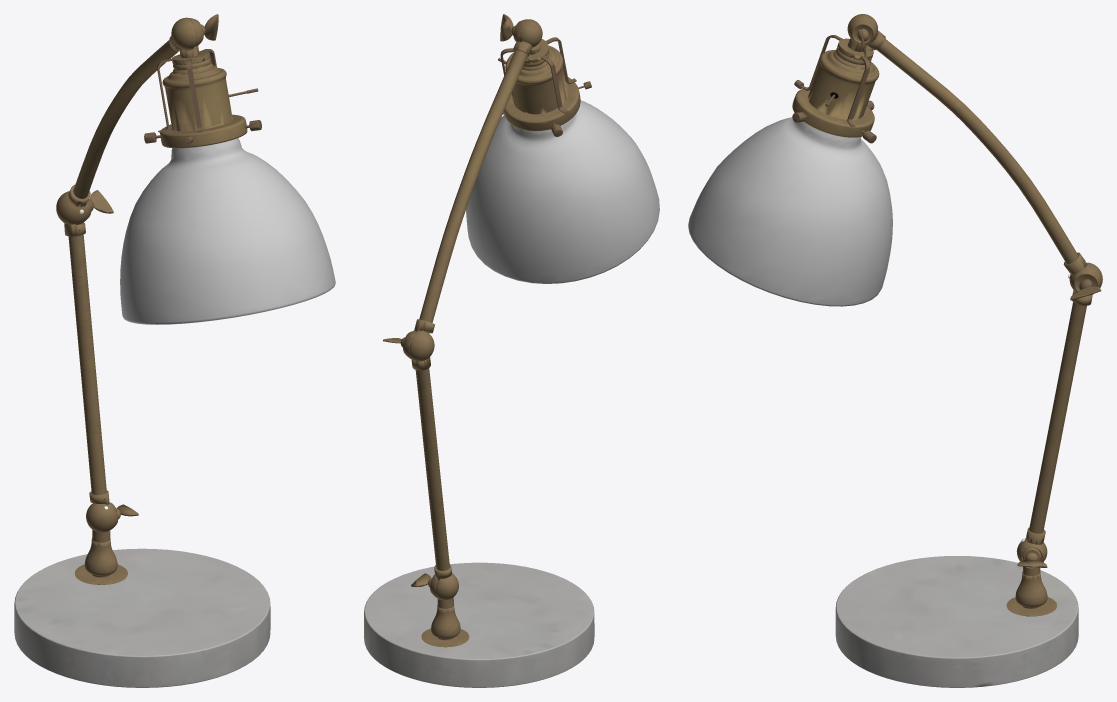
3 renders of one model, left to right at view 1: azimuth 30°, elevation 25°; view 2: azimuth 150°, elevation 25°; view 3: azimuth 270°, elevation 25°, orthographic. The views are drawn at different scales.
Parts seen in each view (by area): view 1: RootNode; view 2: RootNode; view 3: RootNode.
Boxes of the visible parts, <box> form: RootNode: <box>14,14,335,687</box>; RootNode: <box>364,14,659,687</box>; RootNode: <box>688,14,1102,687</box>.
Size of the model in its own units: 0.1857 by 0.5223 by 0.3168.
1 material, 1 textured.
